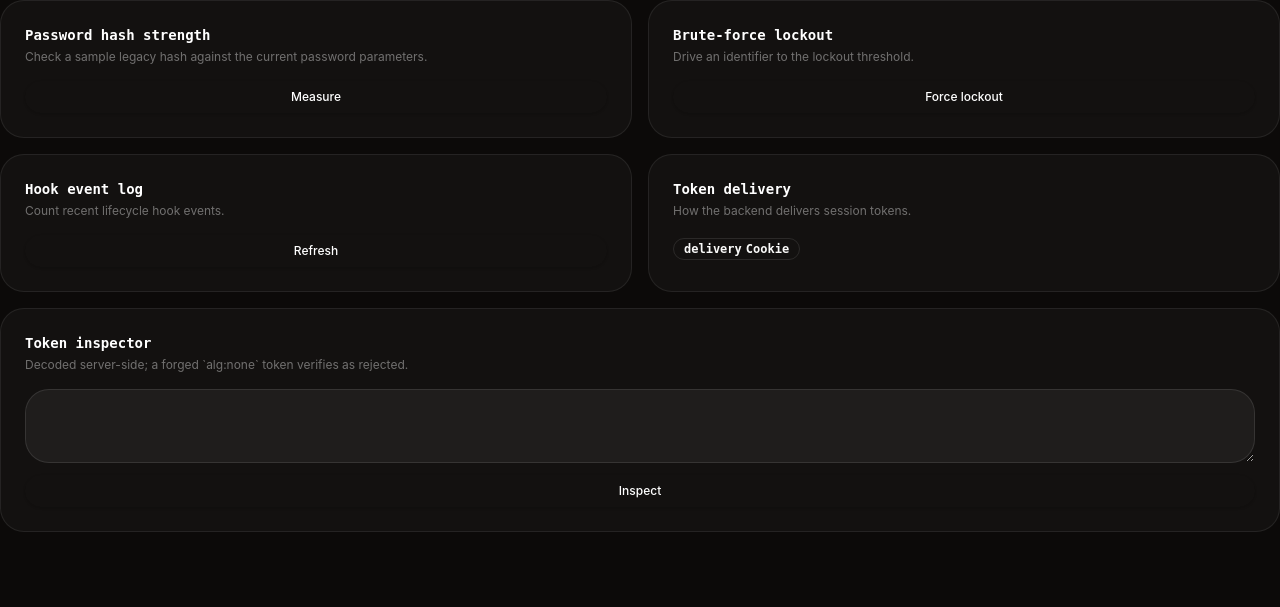
Scenario: DiagnosticsMatrix — delivery + token inspector › reads an unknown algorithm when a decoded token omits its header
In the text box named "JWT to inspect": (640, 426) [25,389,1255,463], type "a.b"
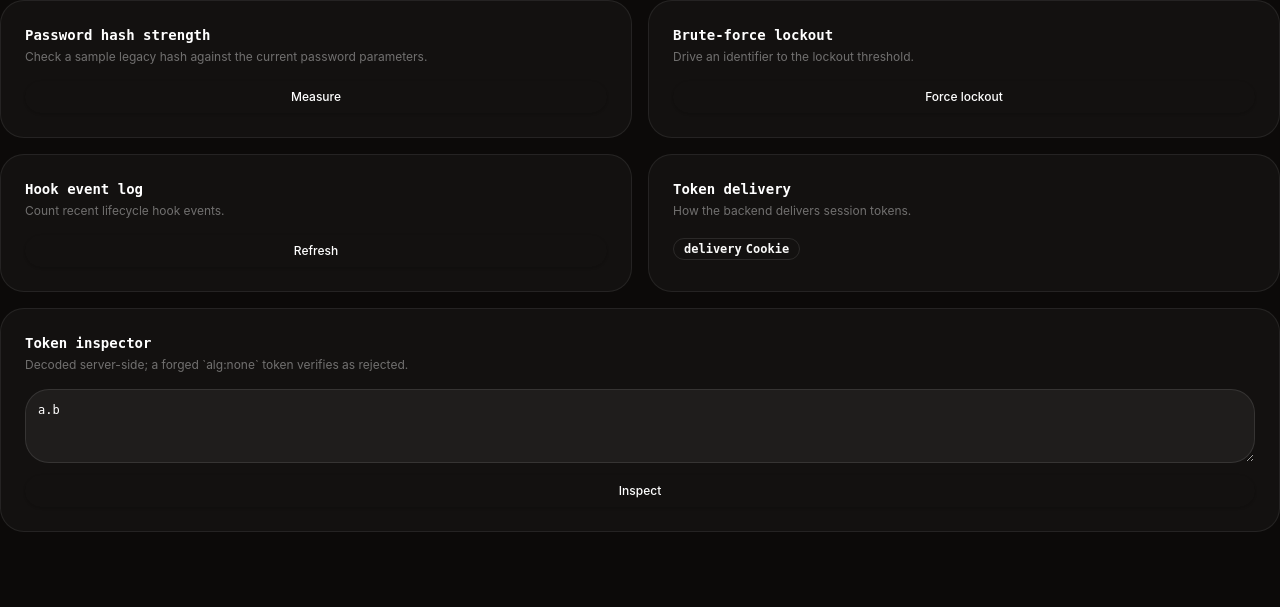
Click the button "Inspect": click(640, 491) [25,475,1255,507]
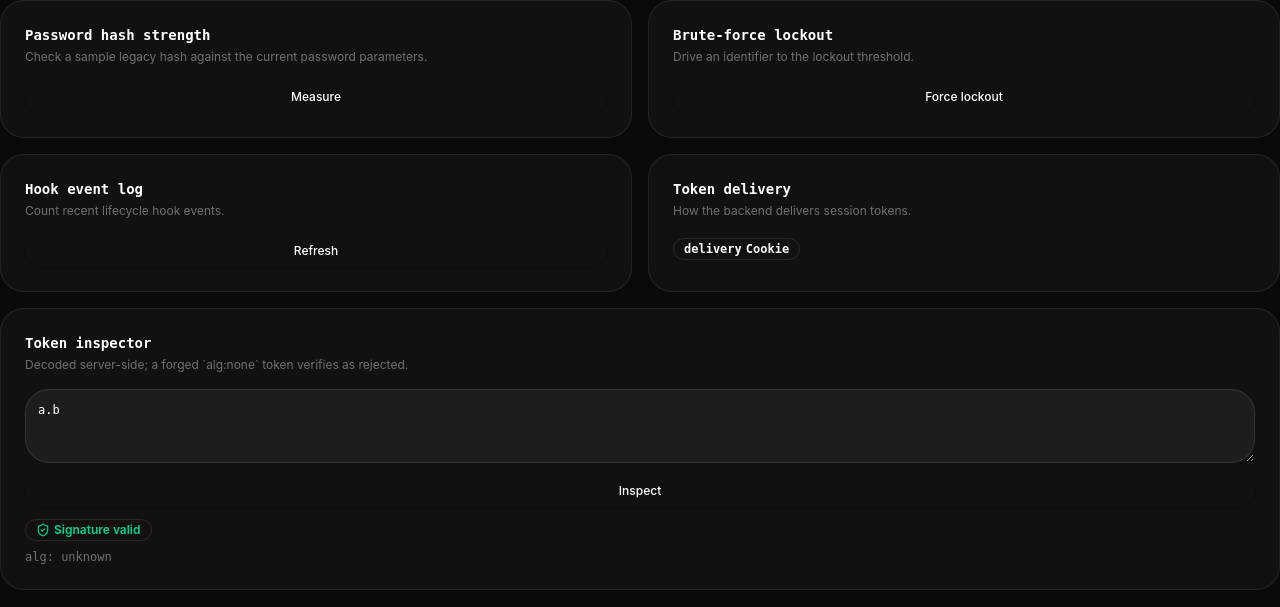
Check: the text "alg: unknown" is shown, box [25,550,112,564]
Check: the text "Signature valid" is shown, box [25,519,152,541]
